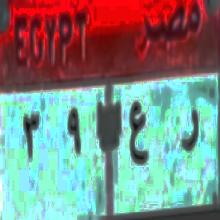3: (18, 105, 46, 175)
9: (61, 108, 88, 161)
ain: (127, 94, 154, 174)
raa: (180, 105, 202, 162)
